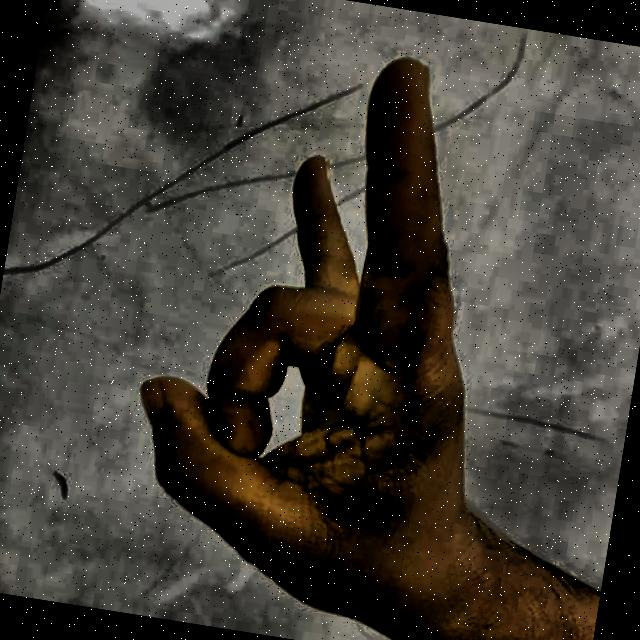Cha: (63, 9, 585, 640)
